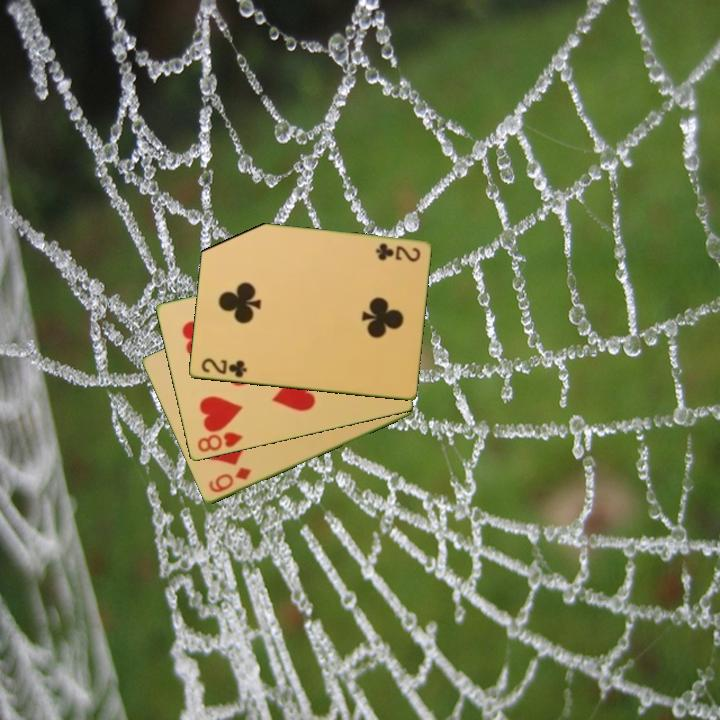2c: (198, 355, 250, 381), (372, 240, 423, 265)
6d: (205, 464, 254, 496)
8h: (194, 429, 245, 455)
